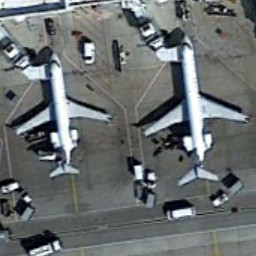Airplane: (135, 29, 255, 195), (8, 48, 116, 186)
